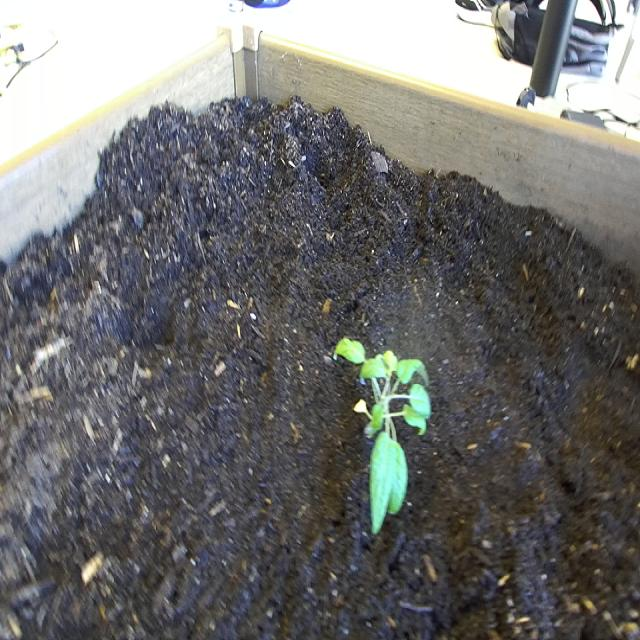Healthy: (331, 329, 436, 545)
